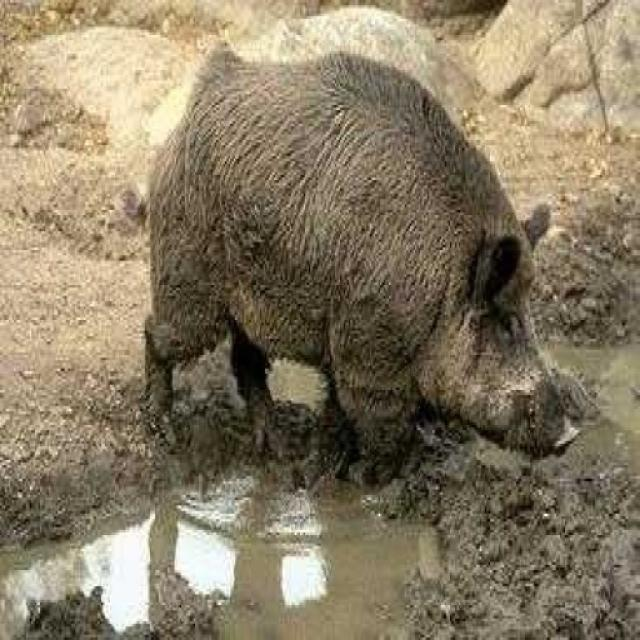pig: (147, 18, 599, 470)
